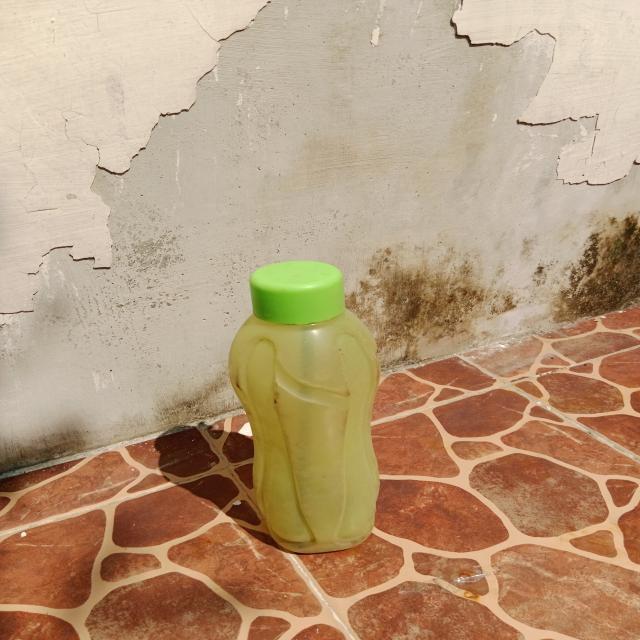botol_minum: (198, 257, 402, 568)
